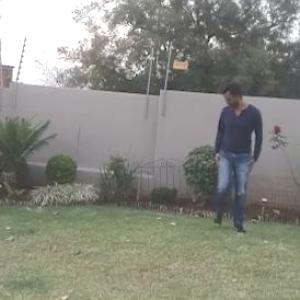follow: (212, 79, 263, 236)
